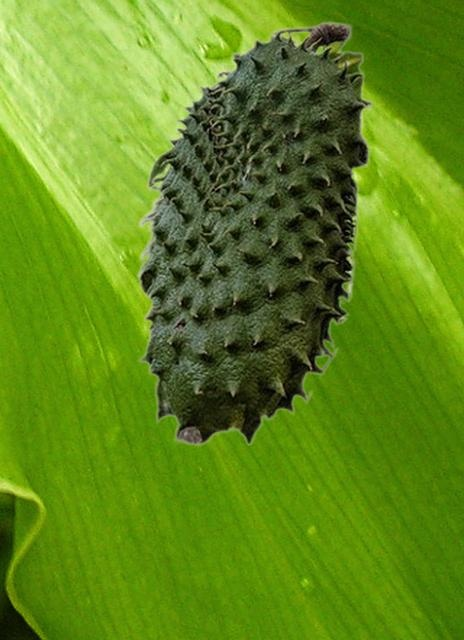guyabano: (135, 20, 372, 446)
